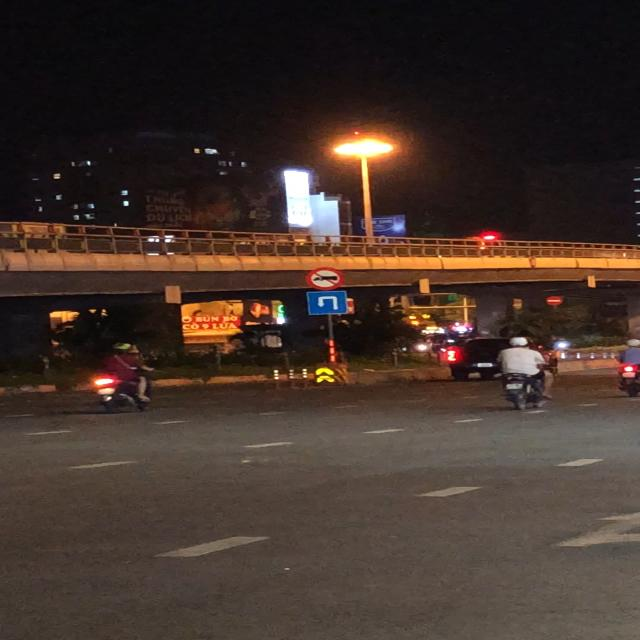Bien bao cam xe so-mi ro-mooc: (304, 267, 346, 291)
